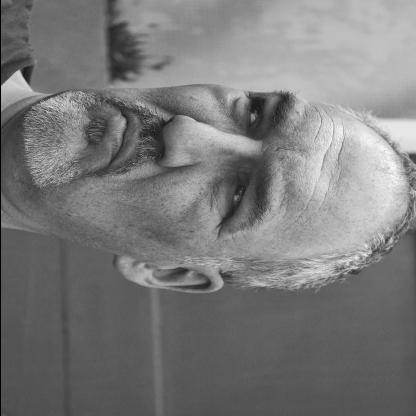Eye: (214, 170, 248, 227), (234, 93, 264, 134)
Mouth: (104, 108, 137, 169)
Nose: (155, 115, 255, 168)
